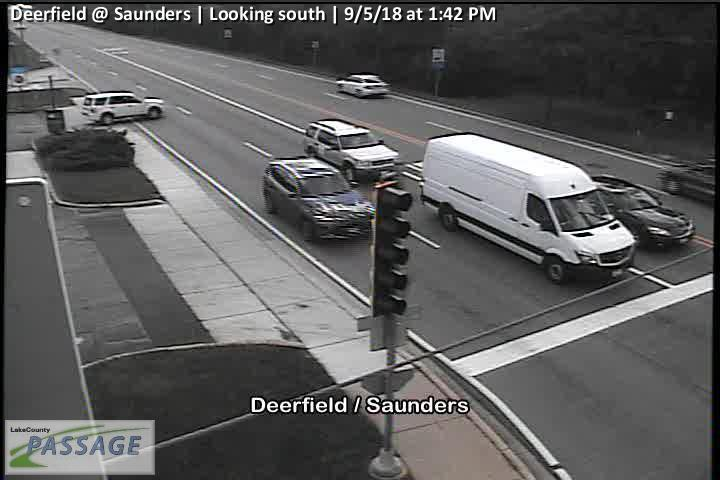SUV: (262, 154, 374, 244), (587, 173, 696, 251), (303, 119, 399, 188), (81, 91, 165, 125)
Sedan: (335, 74, 390, 97)
Truck: (421, 131, 639, 283)
